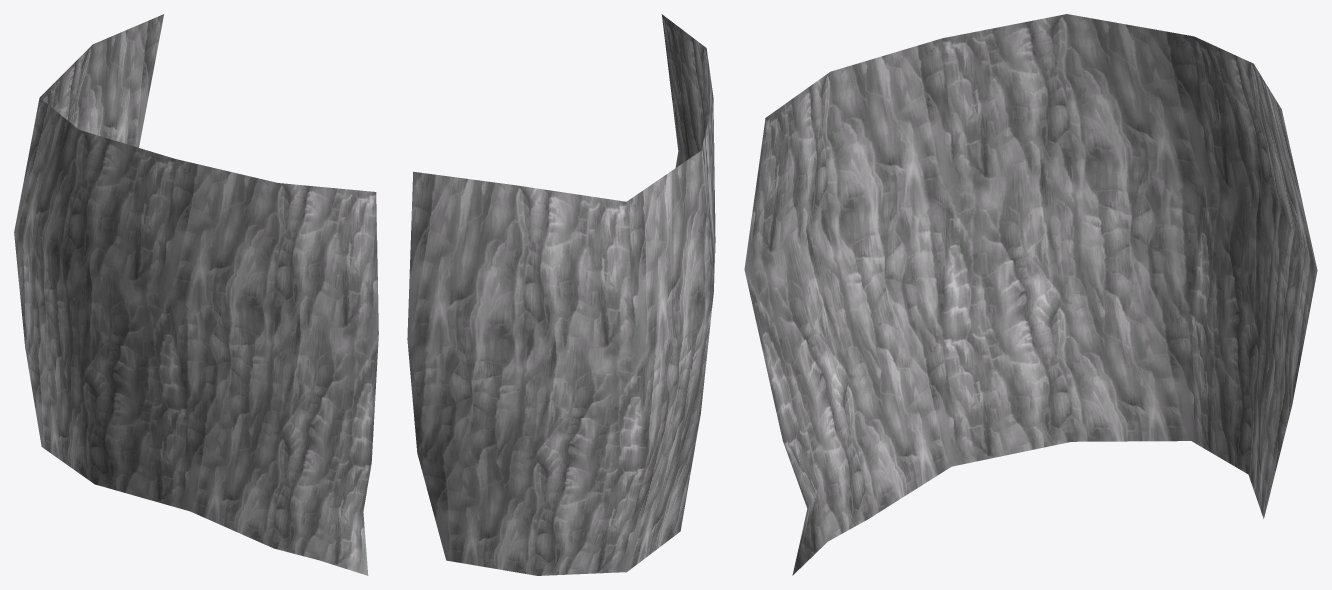
File: SWORDLIGHT20_PS-AREA03_62.fbx
3 views of the same model, side by side, from view 1: azimuth 30°, elevation 25°; view 2: azimuth 150°, elevation 25°; view 3: azimuth 270°, elevation 25° (orthographic). The views are drawn at different scales.
Parts seen in each view (by area): view 1: SWORDLIGHT20_PS-AREA03_62; view 2: SWORDLIGHT20_PS-AREA03_62; view 3: SWORDLIGHT20_PS-AREA03_62.
Boxes of the visible parts, x1,y1,x2,y2 form: SWORDLIGHT20_PS-AREA03_62: (14, 14, 378, 575); SWORDLIGHT20_PS-AREA03_62: (407, 14, 715, 575); SWORDLIGHT20_PS-AREA03_62: (744, 14, 1317, 575).
Bounding box in the file's own units: 74396 × 151692 × 167452.
1 material, 1 textured.
